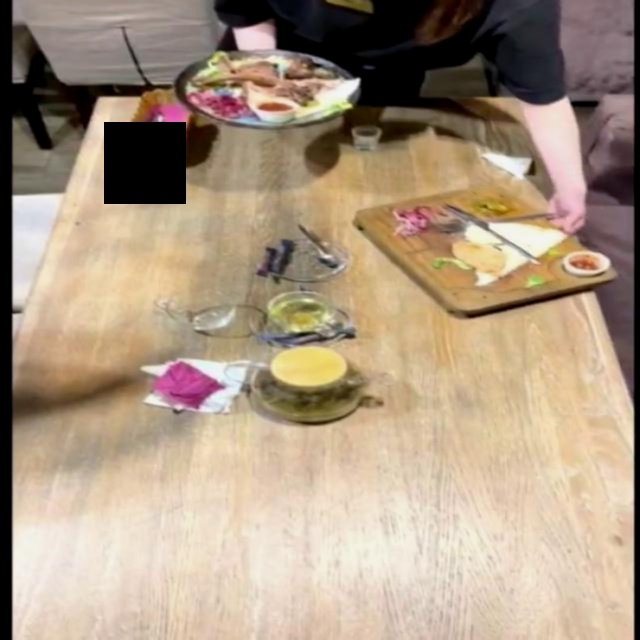meat: (351, 177, 620, 324), (106, 59, 428, 129)
tea: (222, 345, 401, 415)
